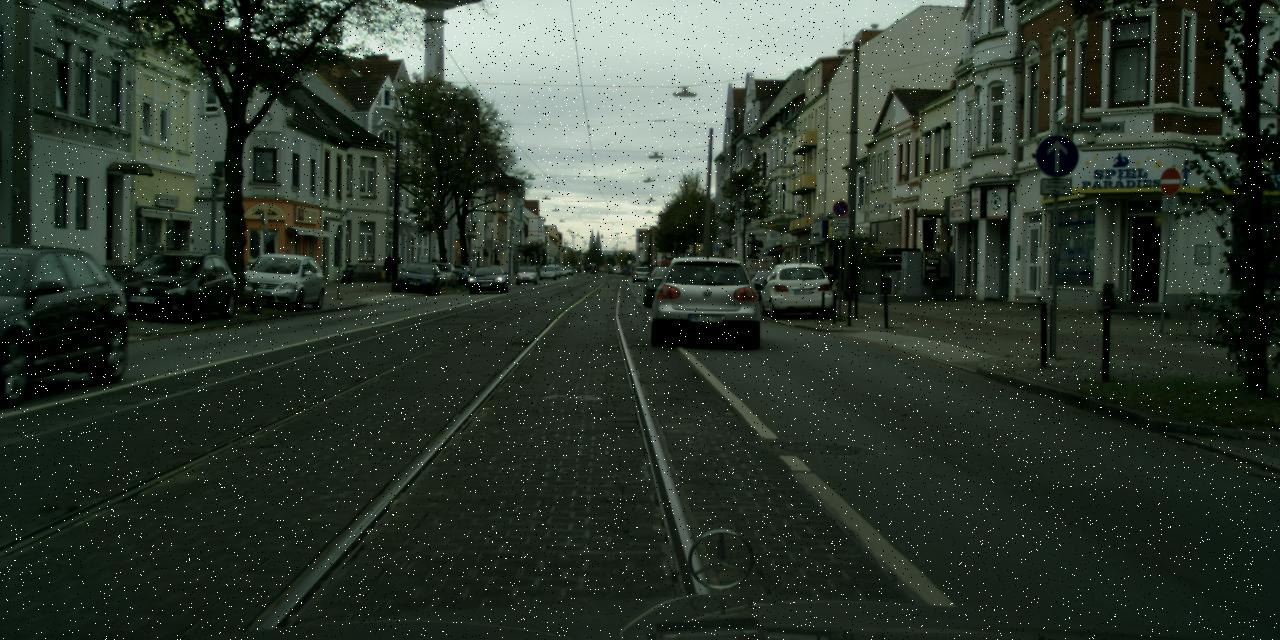ped: (821, 260, 836, 298), (382, 254, 392, 284), (577, 264, 581, 275), (399, 257, 403, 264)
